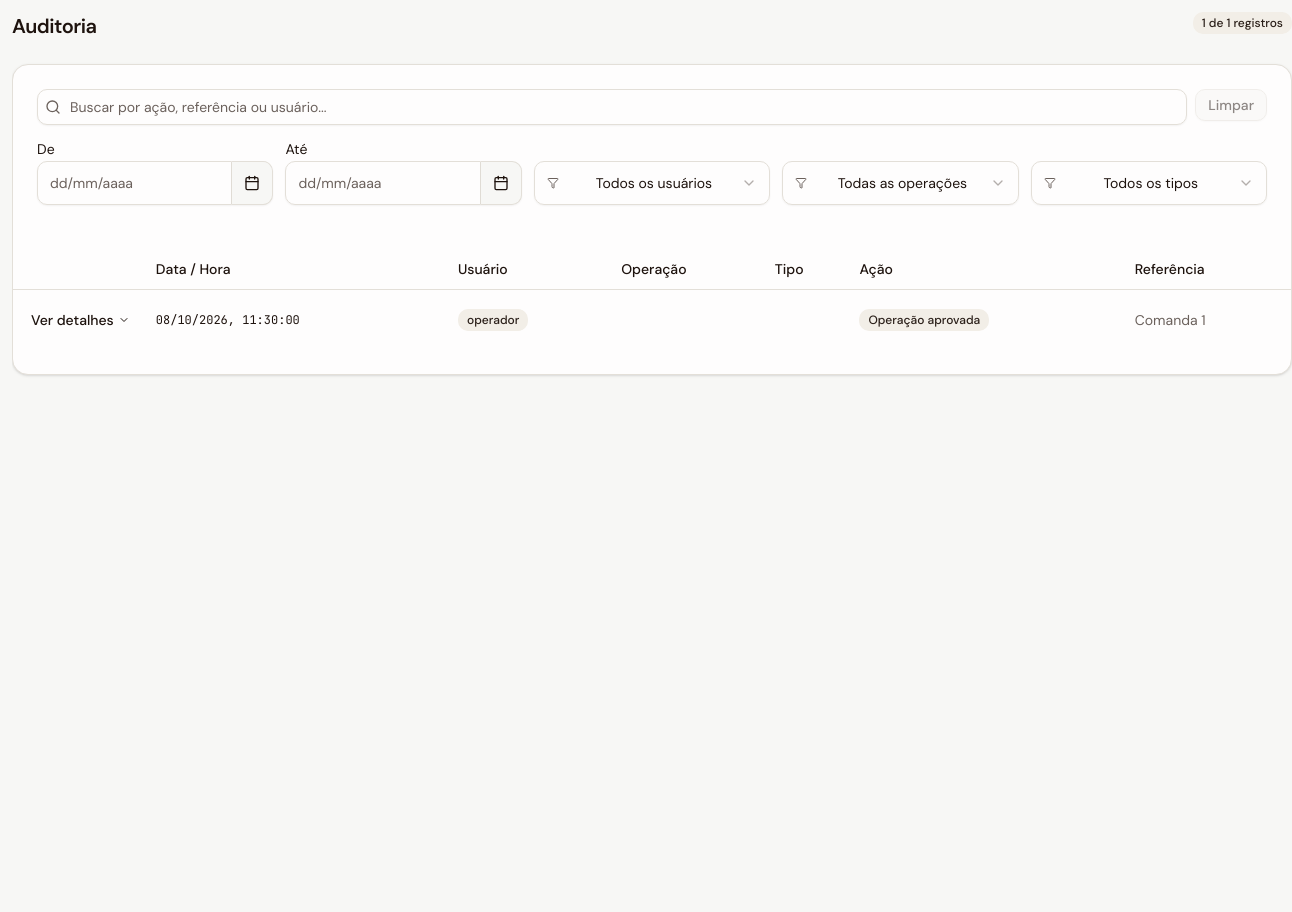
Test: Detalhes da auditoria › permite expandir uma aprovação mesmo sem antes/depois e usa horário de Brasília
The width and height of the screenshot is (1292, 912).
Click the button with aria-label "Mostrar detalhes" at (80, 320), box x1=21 y1=298 x2=140 y2=342
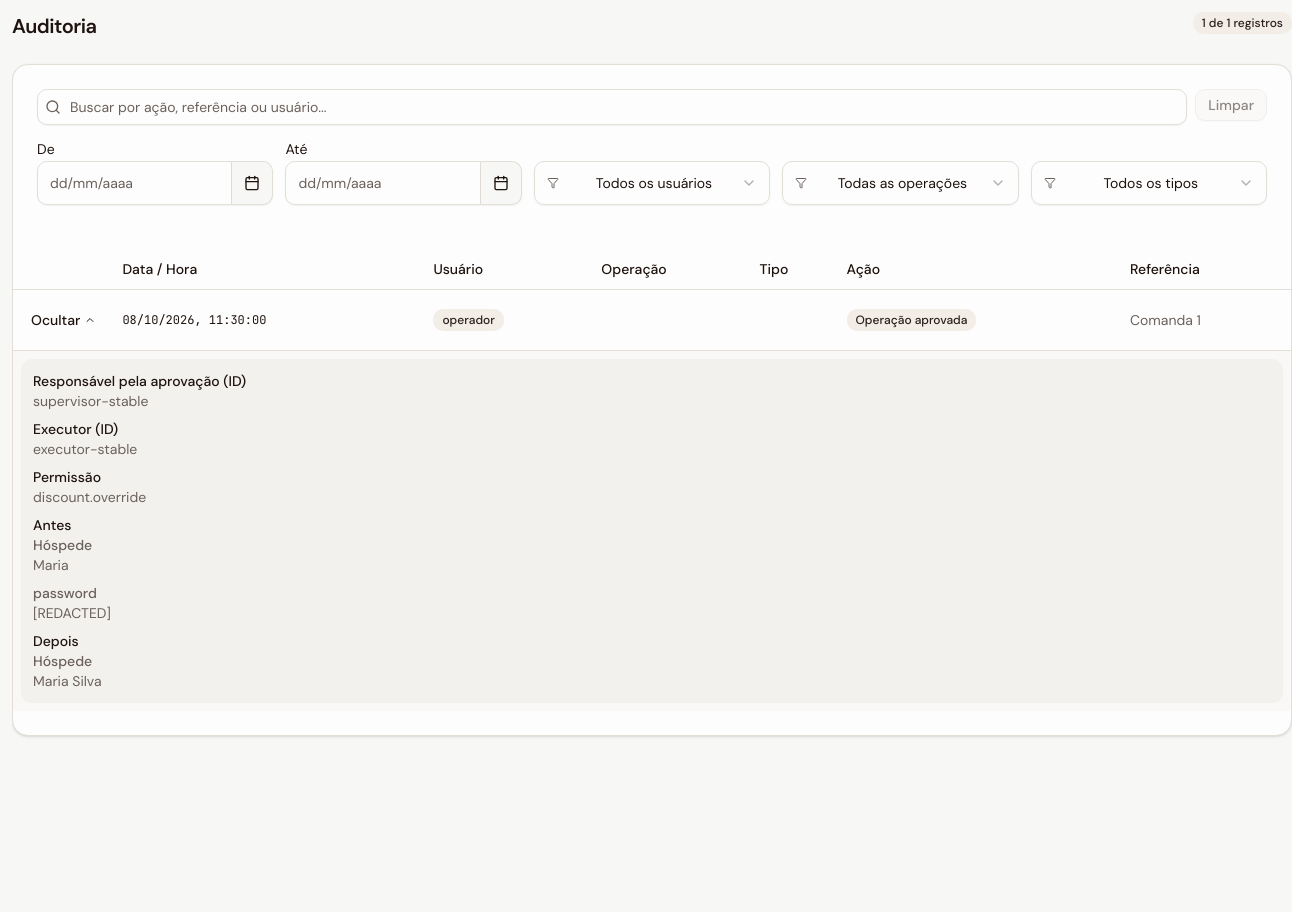
Expected: the button named "Mostrar detalhes" is expanded, x1=21 y1=298 x2=106 y2=342
